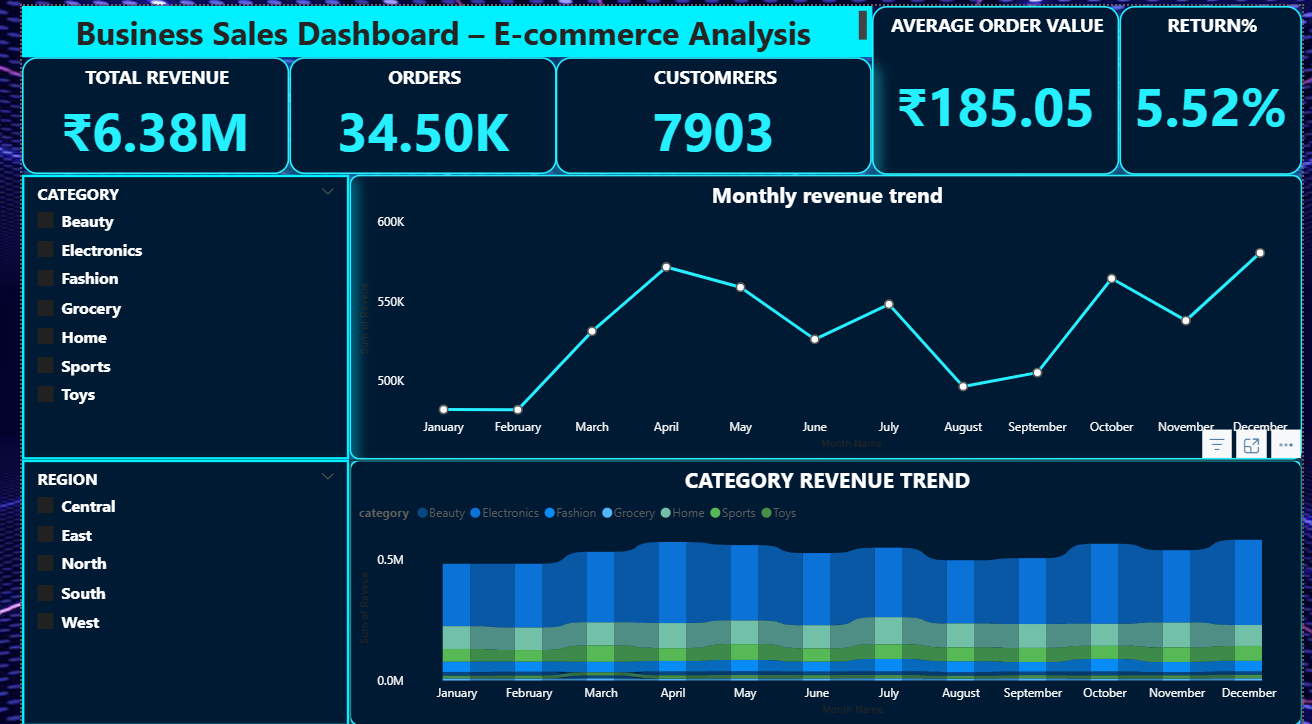

What the dashboard file says about the page in this screenshot:
{"tool":"powerbi","page":{"name":"DASHBOARD","canvas":[1280,720],"ordinal":0},"visuals":[{"type":"textbox","box":[0,0,850,51.4],"z":0},{"type":"card","title":"TOTAL REVENUE","fields":{"Values":["ecommerce_sales_34500.Total Revenue"]},"box":[0,51,267,117],"z":1000},{"type":"card","title":"ORDERS","fields":{"Values":["ecommerce_sales_34500.Total Orders"]},"box":[267,51,267,117],"z":2000},{"type":"card","title":"AVERAGE ORDER VALUE","fields":{"Values":["ecommerce_sales_34500.Average Order Value"]},"box":[850,0,247.3,168.9],"z":3000},{"type":"card","title":"RETURN%","fields":{"Values":["ecommerce_sales_34500.Return Rate %"]},"box":[1097.3,0,182.4,168.9],"z":4000},{"type":"card","title":"CUSTOMRERS","fields":{"Values":["ecommerce_sales_34500.Total Customers"]},"box":[534,51,316,117],"z":5000},{"type":"lineChart","title":"Monthly revenue trend","fields":{"Category":["ecommerce_sales_34500.Month Name"],"Y":["Sum(ecommerce_sales_34500.Reveue)"]},"box":[327,168.9,952.7,285.1],"z":6000},{"type":"slicer","fields":{"Values":["ecommerce_sales_34500.category"]},"box":[0,168.9,327,285.1],"z":7000},{"type":"slicer","fields":{"Values":["ecommerce_sales_34500.region"]},"box":[0,454.1,327,266.2],"z":8000},{"type":"ribbonChart","title":"CATEGORY REVENUE TREND","fields":{"Category":["ecommerce_sales_34500.Month Name"],"Series":["ecommerce_sales_34500.category"],"Y":["Sum(ecommerce_sales_34500.Reveue)"]},"box":[327,454,953,266],"z":9000}]}

Visuals, with their boxes in screenshot pixels (x1, y1, x2, y2), scaled from the page's 1280x720 canvas onto the 1312x724 screenshot:
textbox: 0, 0, 871, 52
"TOTAL REVENUE" card: 0, 51, 274, 169
"ORDERS" card: 274, 51, 547, 169
"AVERAGE ORDER VALUE" card: 871, 0, 1125, 170
"RETURN%" card: 1125, 0, 1311, 170
"CUSTOMRERS" card: 547, 51, 871, 169
"Monthly revenue trend" lineChart: 335, 170, 1311, 457
slicer - ecommerce_sales_34500.category: 0, 170, 335, 457
slicer - ecommerce_sales_34500.region: 0, 457, 335, 723
"CATEGORY REVENUE TREND" ribbonChart: 335, 457, 1311, 723
